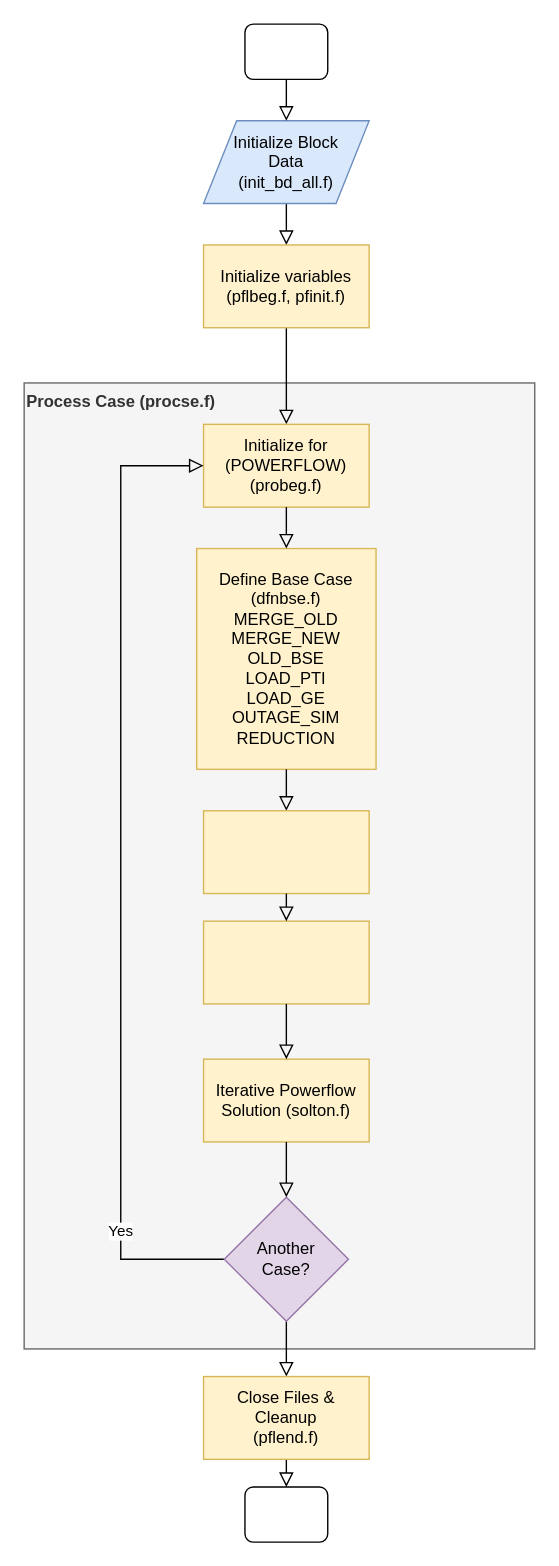
Image size: 559x1566. Some labels were removed from this diagram. Each missing label, with the centre of its shape:
End: point (286, 1514)
Optimal Ordering (reorder.f, chgorder.f): point (285, 962)
Process Data (prodat.f) CHANGES GENDROP: point (285, 851)
Start: point (286, 51)
